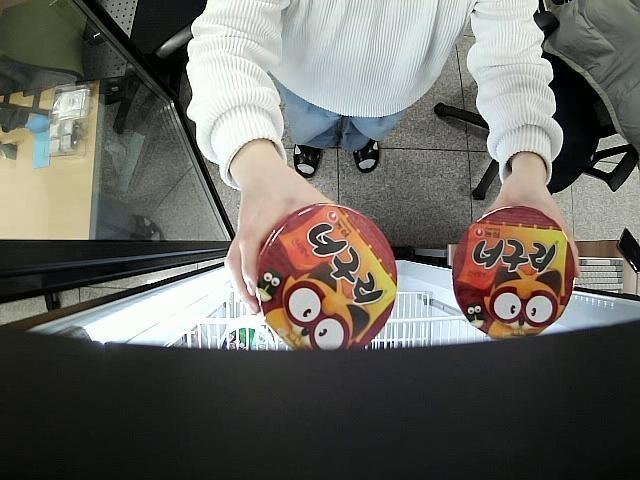05_nuguri_L: (257, 202, 396, 349), (454, 205, 574, 334)
